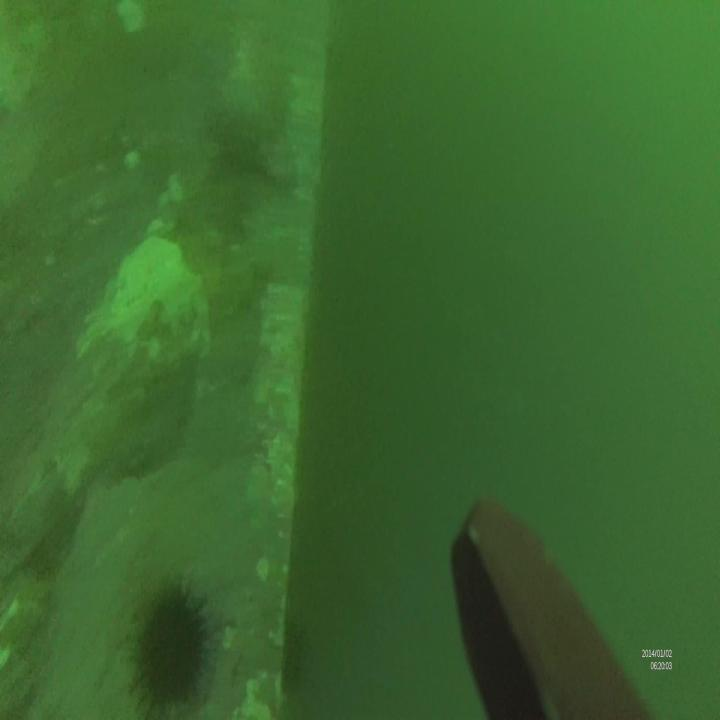echinus: (134, 586, 211, 713)
